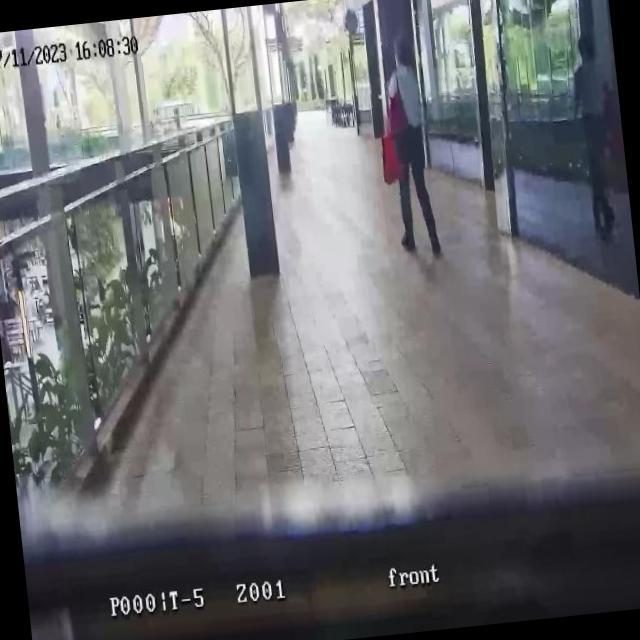person: (378, 32, 443, 260), (568, 32, 620, 238)
